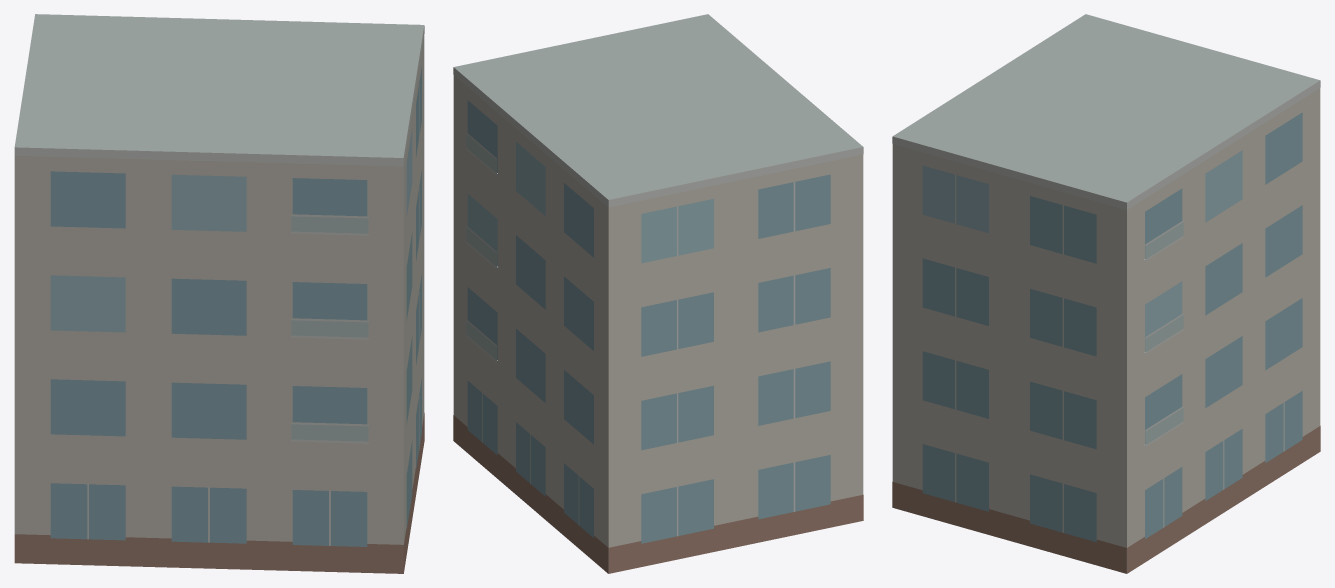
Rendered from residential-b2b2e2c8-8b64-4c4b-99ef-fceca2e7f4c5.glb.
3 views of the same model, side by side, from view 1: azimuth 30°, elevation 25°; view 2: azimuth 150°, elevation 25°; view 3: azimuth 270°, elevation 25° (orthographic). The views are drawn at different scales.
Parts seen in each view (by area): view 1: residential-b2b2e2c8-8b64-4c4b-99ef-fceca2e7f4c5.tmp; view 2: residential-b2b2e2c8-8b64-4c4b-99ef-fceca2e7f4c5.tmp; view 3: residential-b2b2e2c8-8b64-4c4b-99ef-fceca2e7f4c5.tmp.
Part boxes in pixels (x1=…): residential-b2b2e2c8-8b64-4c4b-99ef-fceca2e7f4c5.tmp: x1=14, y1=14, x2=424, y2=573; residential-b2b2e2c8-8b64-4c4b-99ef-fceca2e7f4c5.tmp: x1=453, y1=14, x2=863, y2=573; residential-b2b2e2c8-8b64-4c4b-99ef-fceca2e7f4c5.tmp: x1=892, y1=14, x2=1320, y2=573.
Size of the model in its own units: 13.3 by 12.2 by 12.76.
